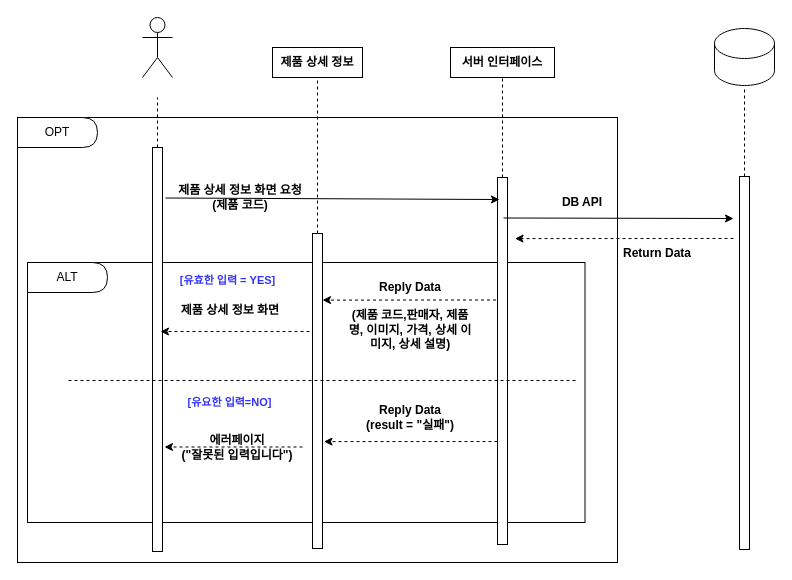
Some shapes in this 792 by 580 pixel diagram are drawn without their labels. Here are the shapes that lost their labels. From the top down, the centre of each, then its label:
At (x=157, y=47): "구매자".
At (x=744, y=57): "Server DB".
